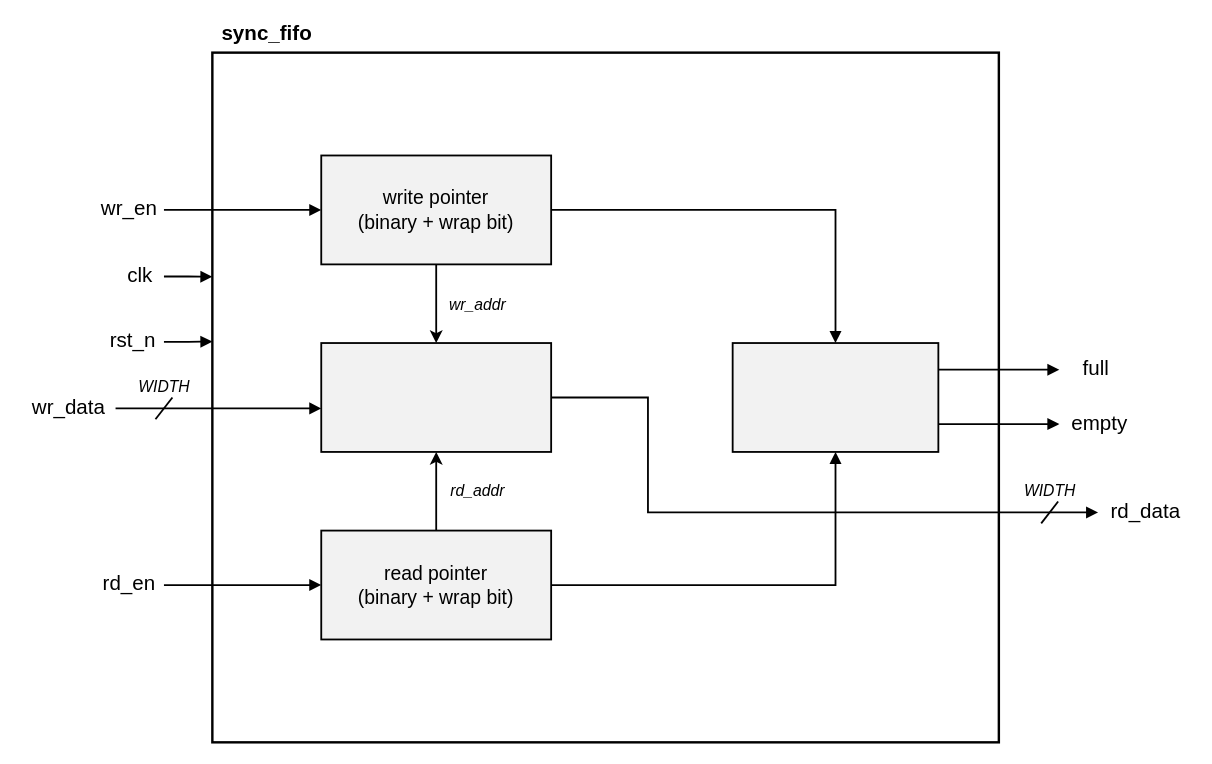
This 1212x764 diagram has some shape labels left out. Each missing label, with the centre of its shape:
flag logic full / empty: pixel 835 397
memory DEPTH × WIDTH: pixel 436 397
